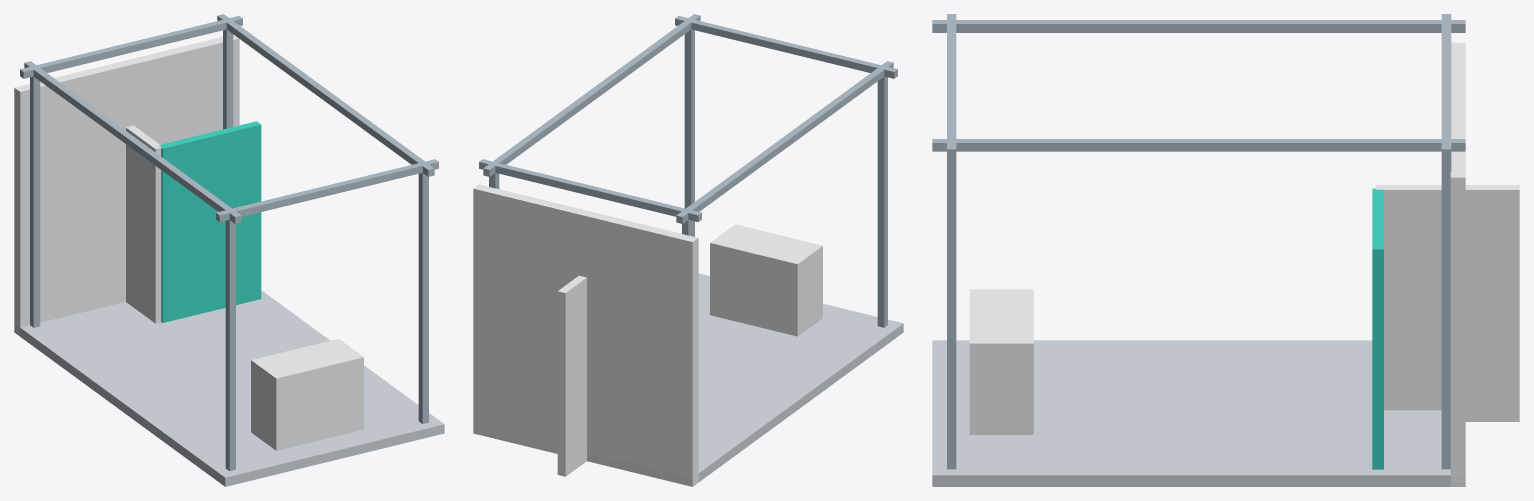
3 views of the same model, side by side, from view 1: azimuth 30°, elevation 25°; view 2: azimuth 150°, elevation 25°; view 3: azimuth 270°, elevation 25° (orthographic). The views are drawn at different scales.
Parts seen in each view (by area): view 1: Exhibition Booth Concept; view 2: Exhibition Booth Concept; view 3: Exhibition Booth Concept.
Boxes of the visible parts, x1,y1,x2,y2 form: Exhibition Booth Concept: (14,14,444,486); Exhibition Booth Concept: (473,14,903,486); Exhibition Booth Concept: (932,14,1519,486).
Bounding box in the file's own units: 3 × 3.49 × 5.51.
